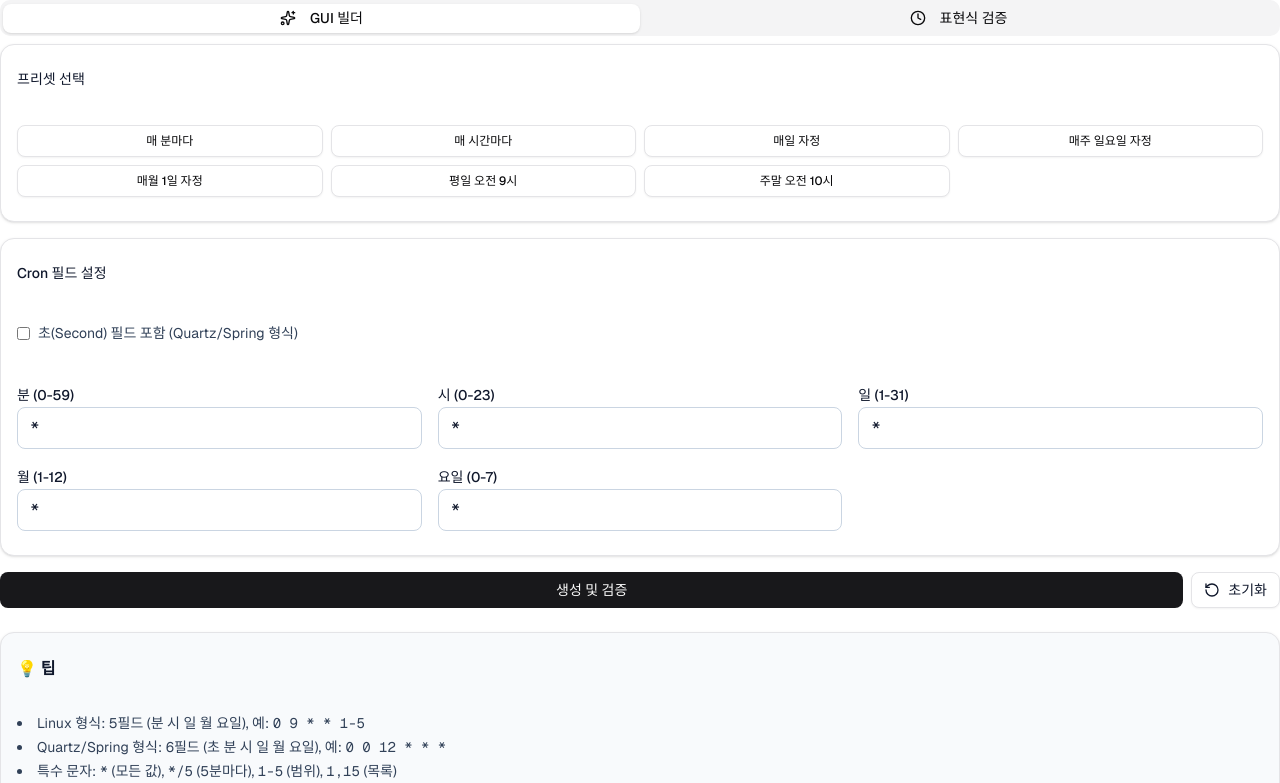
Test: CronExpressionGenerator Component › 프리셋 로드 테스트 › 매 분마다 프리셋 클릭
The width and height of the screenshot is (1280, 783).
Click the button "매 분마다" at [170, 141], box [17,125,322,157]
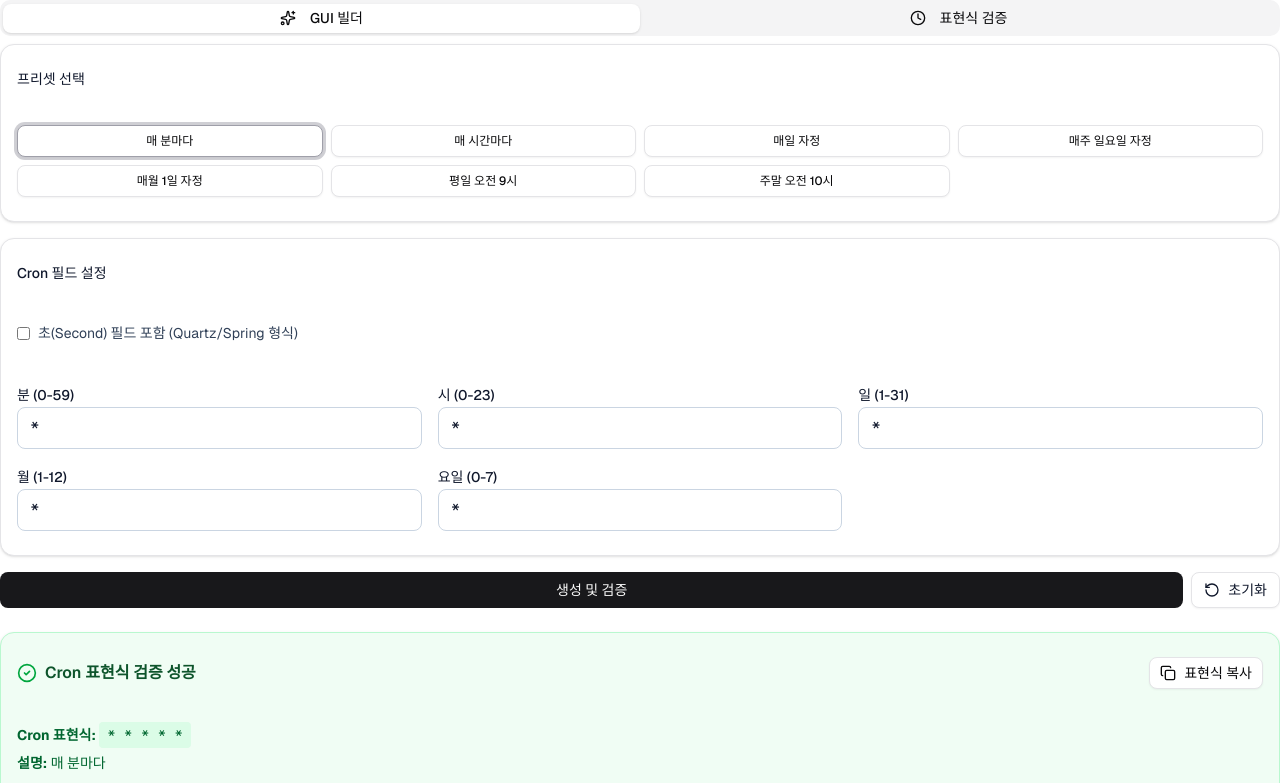
expect the heading "Cron 표현식 검증 성공" is shown: met, box [45,661,196,685]
